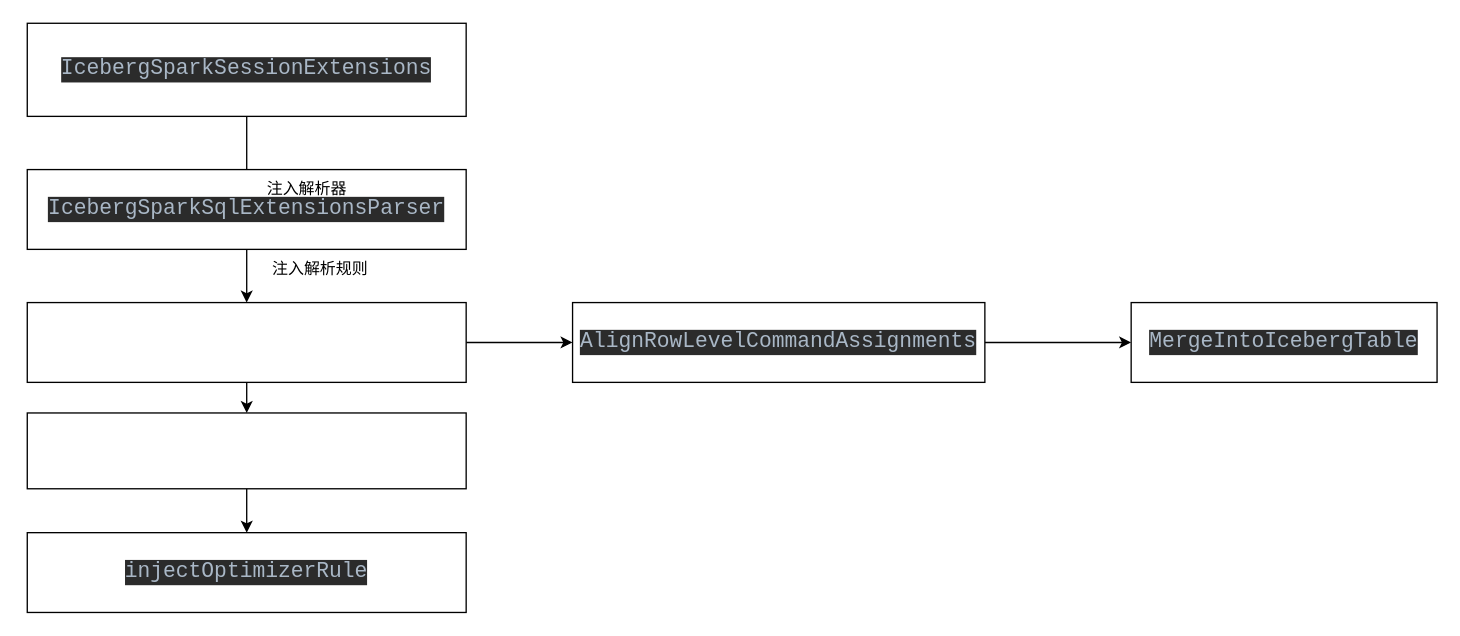
Some shapes in this 1460 by 636 pixel diagram are drawn without their labels. The centre of each missing label's shape, as x and y in pixels:
injectCheckRule -> checkView: [246,450]
injectResolutionRule->View & Update: [246,341]
